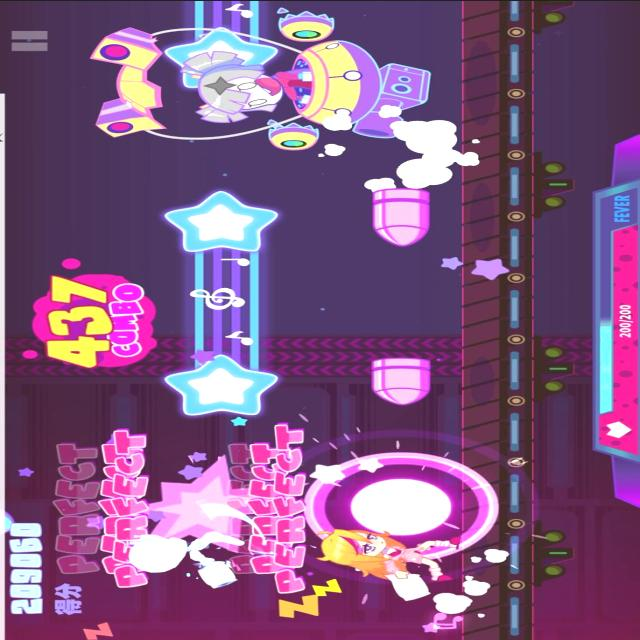jian: (166, 190, 278, 418), (367, 183, 437, 248), (363, 353, 432, 408)
qiangboss: (87, 10, 440, 150)
